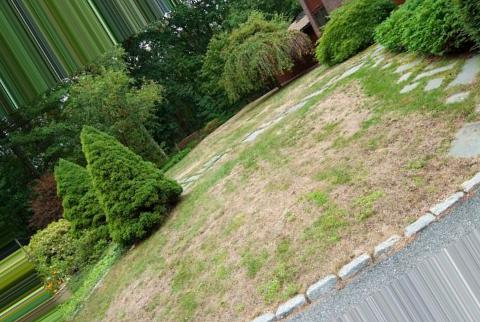patch: (181, 147, 266, 321), (309, 96, 418, 213), (108, 269, 172, 321), (266, 178, 304, 237)
